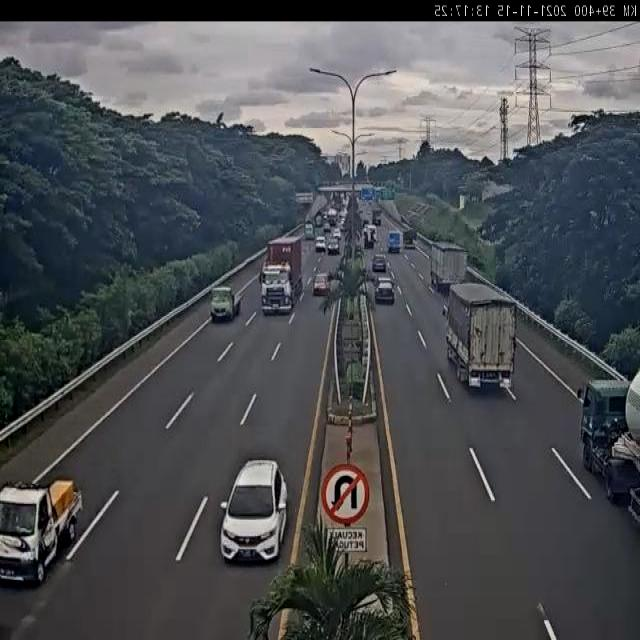Car: (222, 456, 290, 571), (372, 276, 397, 312), (310, 266, 332, 299), (368, 251, 389, 272), (315, 234, 327, 252)
Truck: (441, 282, 531, 401), (567, 366, 639, 508), (0, 477, 83, 584), (258, 233, 300, 321), (428, 237, 470, 291), (208, 286, 245, 326), (359, 224, 381, 250), (300, 218, 316, 243), (386, 231, 402, 255), (325, 236, 343, 253)
